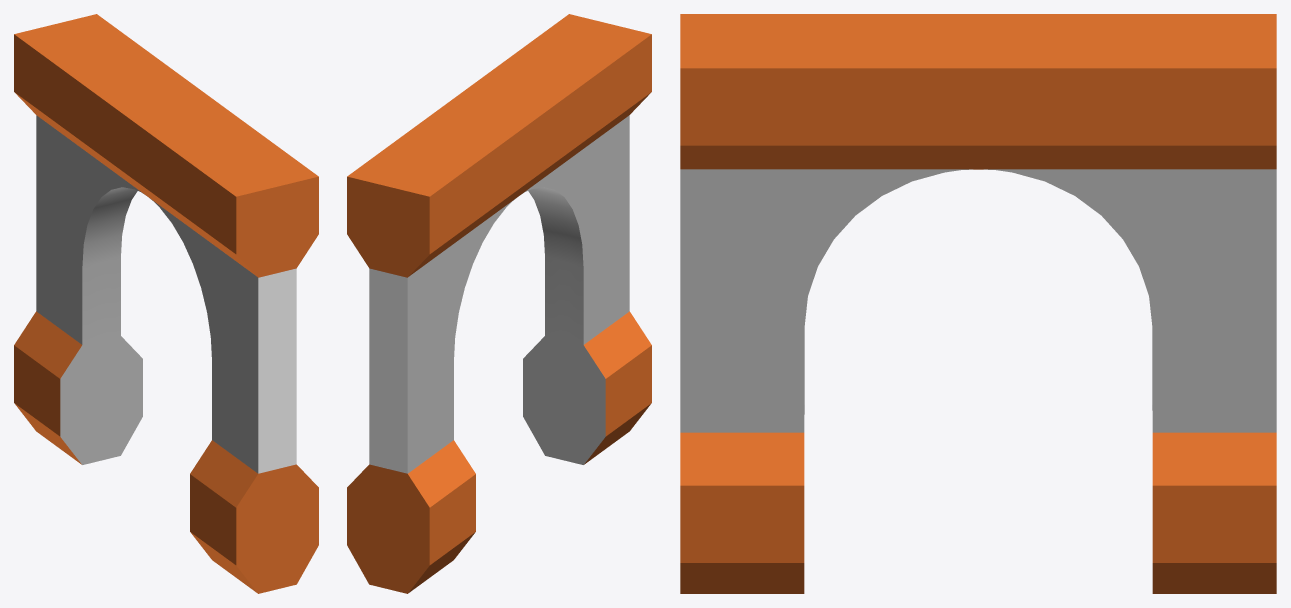
Rendered from basic_door.fbx.
3 renders of one model, left to right at view 1: azimuth 30°, elevation 25°; view 2: azimuth 150°, elevation 25°; view 3: azimuth 270°, elevation 25°, orthographic. The views are drawn at different scales.
Parts seen in each view (by area): view 1: basic_door; view 2: basic_door; view 3: basic_door.
Part boxes in pixels (x1,y1,x2,y2): basic_door: (14,14,318,593); basic_door: (347,14,651,593); basic_door: (680,14,1276,593).
Size of the model in its own units: 64.54 by 300 by 300.
Materials: 2 (1 with a texture image).
